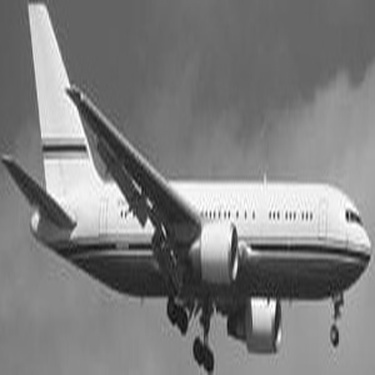airplane: (3, 8, 372, 371)
